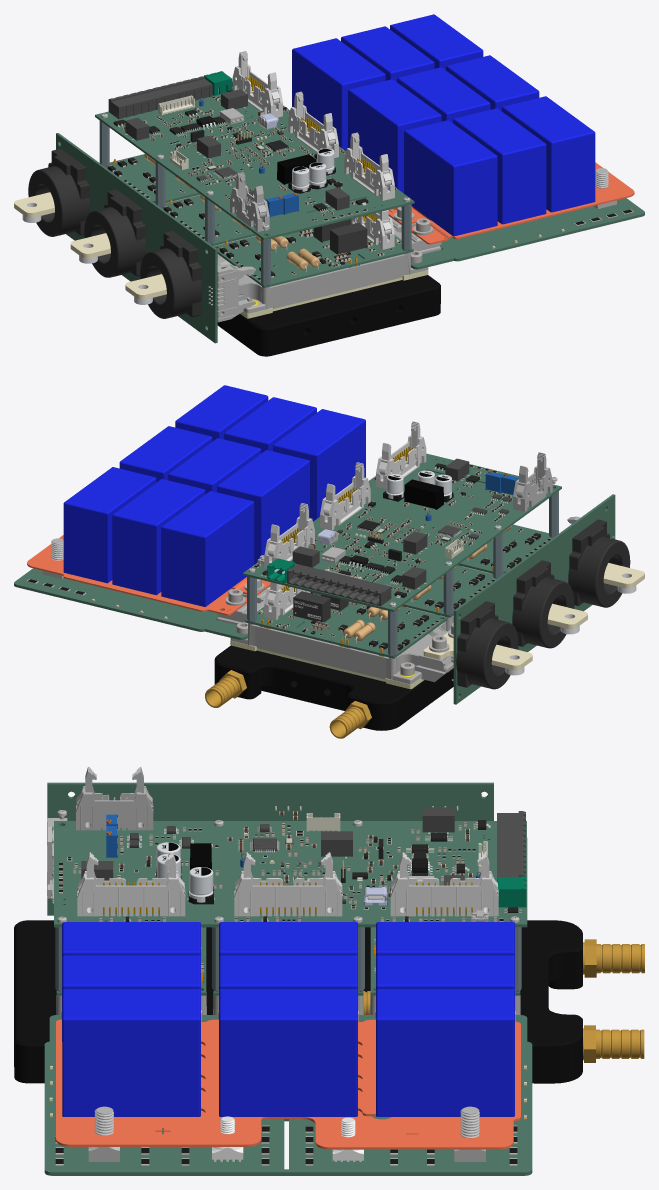
Rendered from controller JLM Middle caps Liquid_sin.glb.
The picture shows the model from 3 angles, top to bottom: view 1: azimuth 30°, elevation 25°; view 2: azimuth 150°, elevation 25°; view 3: azimuth 270°, elevation 25°; orthographic projection. The views are drawn at different scales.
Parts seen in each view (by area): view 1: Solid2 (×20), Solid1 (×13), Solid4, Srf1; view 2: Solid2 (×20), Solid1 (×14), Solid4; view 3: Solid1 (×16), Solid2 (×13), Solid3.
Part boxes in pixels (bbox=[...]): Solid2 (×20): bbox=[14, 14, 595, 304]; Solid1 (×13): bbox=[28, 76, 644, 356]; Solid4: bbox=[217, 216, 441, 318]; Srf1: bbox=[401, 204, 411, 251]; Solid2 (×20): bbox=[63, 385, 644, 675]; Solid1 (×14): bbox=[14, 453, 630, 738]; Solid4: bbox=[217, 587, 453, 689]; Solid1 (×16): bbox=[14, 782, 644, 1175]; Solid2 (×13): bbox=[62, 867, 514, 1116]; Solid3: bbox=[497, 876, 526, 907].
Bounding box in the file's own units: 0.3251 × 0.0944 × 0.2614.
